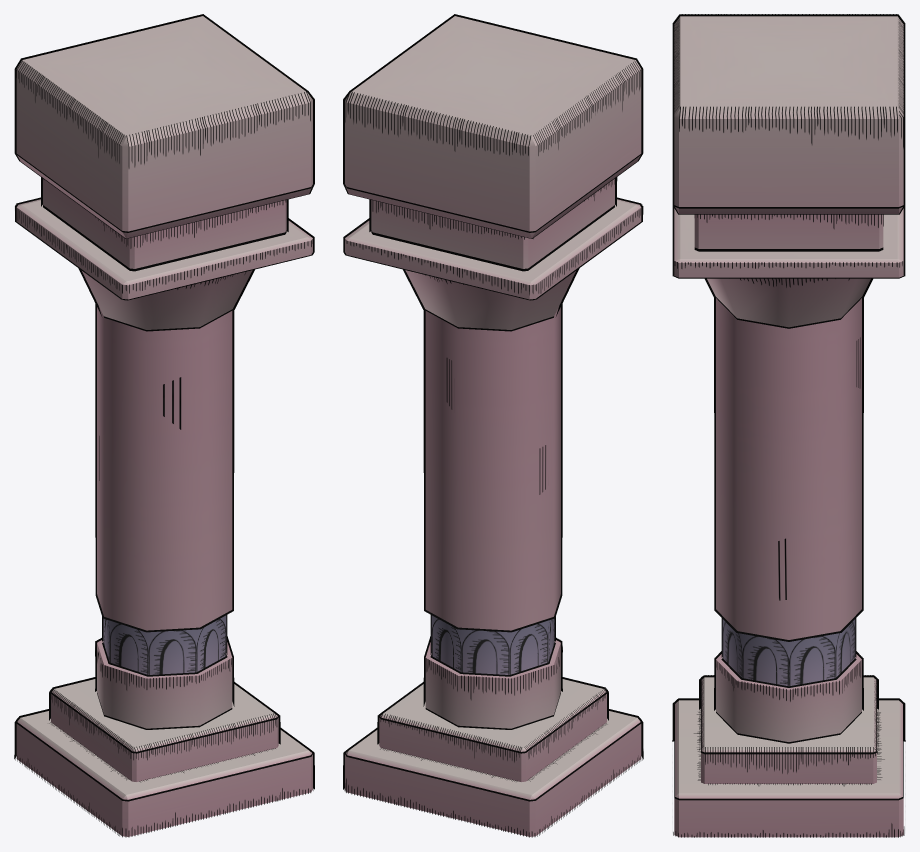
Rendered from Column_Regular.glb.
3 views of the same model, side by side, from view 1: azimuth 30°, elevation 25°; view 2: azimuth 150°, elevation 25°; view 3: azimuth 270°, elevation 25° (orthographic). The views are drawn at different scales.
Visible parts, largest first — view 1: Column_Regular; view 2: Column_Regular; view 3: Column_Regular.
Part boxes in pixels (x1,y1,x2,y2): Column_Regular: (14,14,314,837); Column_Regular: (343,14,643,837); Column_Regular: (672,14,905,837).
Bounding box in the file's own units: 1.02 × 3.51 × 1.02.
3 materials, 2 textured.
